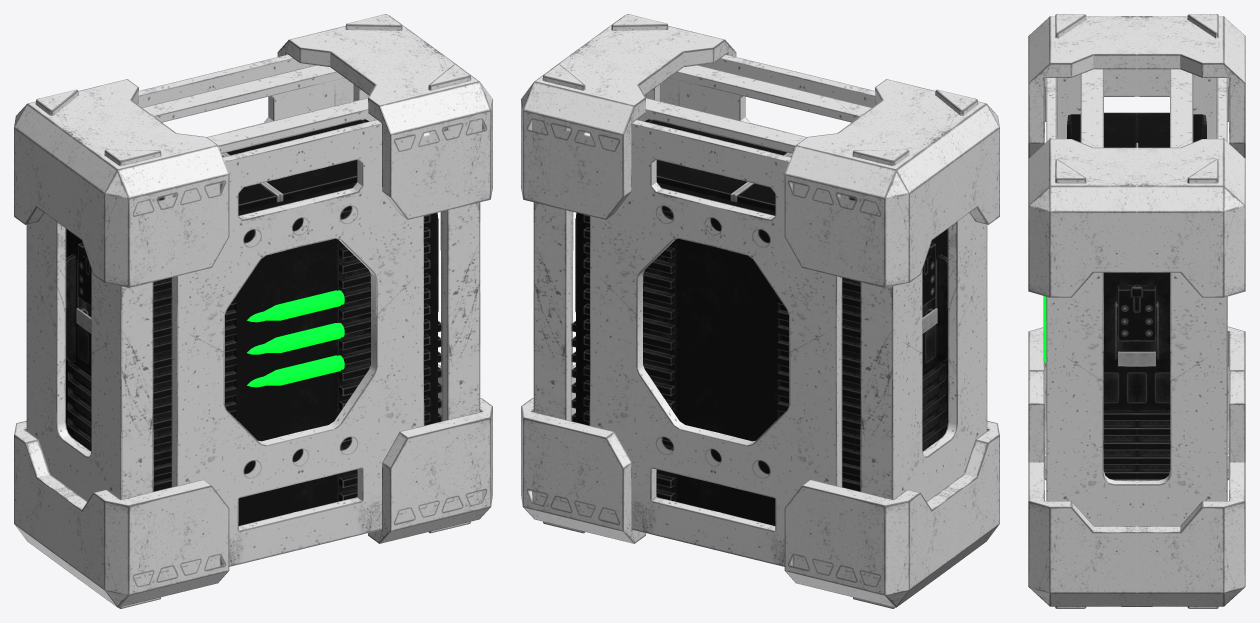
The model's file is ammo.glb.
3 views of the same model, side by side, from view 1: azimuth 30°, elevation 25°; view 2: azimuth 150°, elevation 25°; view 3: azimuth 270°, elevation 25° (orthographic). The views are drawn at different scales.
Visible parts, largest first — view 1: Object_2; view 2: Object_2; view 3: Object_2.
Part boxes in pixels (x1,y1,x2,y2): Object_2: (14, 14, 492, 608); Object_2: (521, 14, 999, 608); Object_2: (1028, 14, 1245, 608).
Size of the model in its own units: 1.27 by 1.4 by 0.6376.
1 material, 1 textured.
